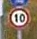limite 10: (8, 7, 29, 29)
